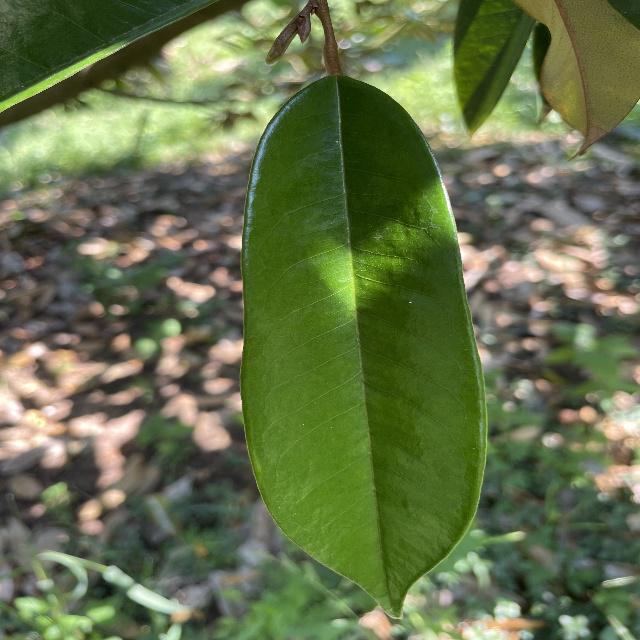No Disease: (231, 67, 498, 628)
